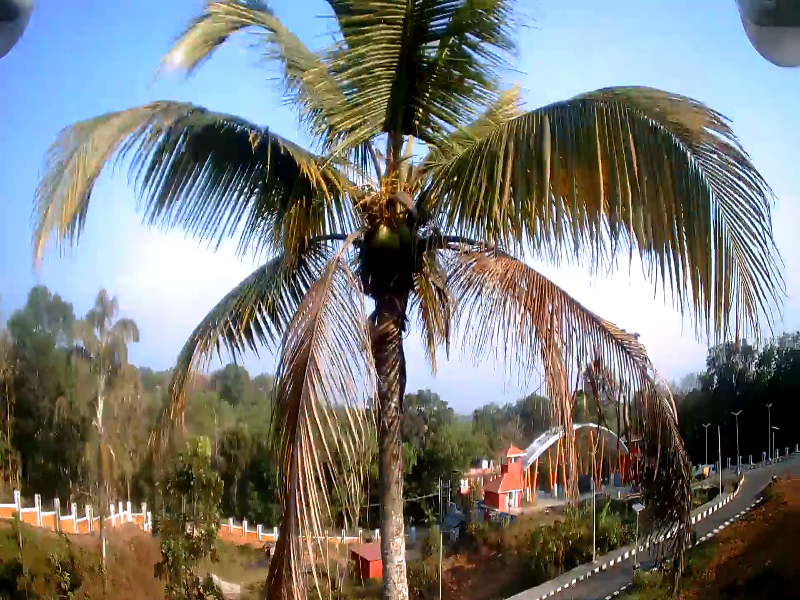coconut: (372, 223, 400, 246)
